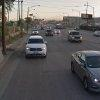Car: (61, 44, 100, 100)
